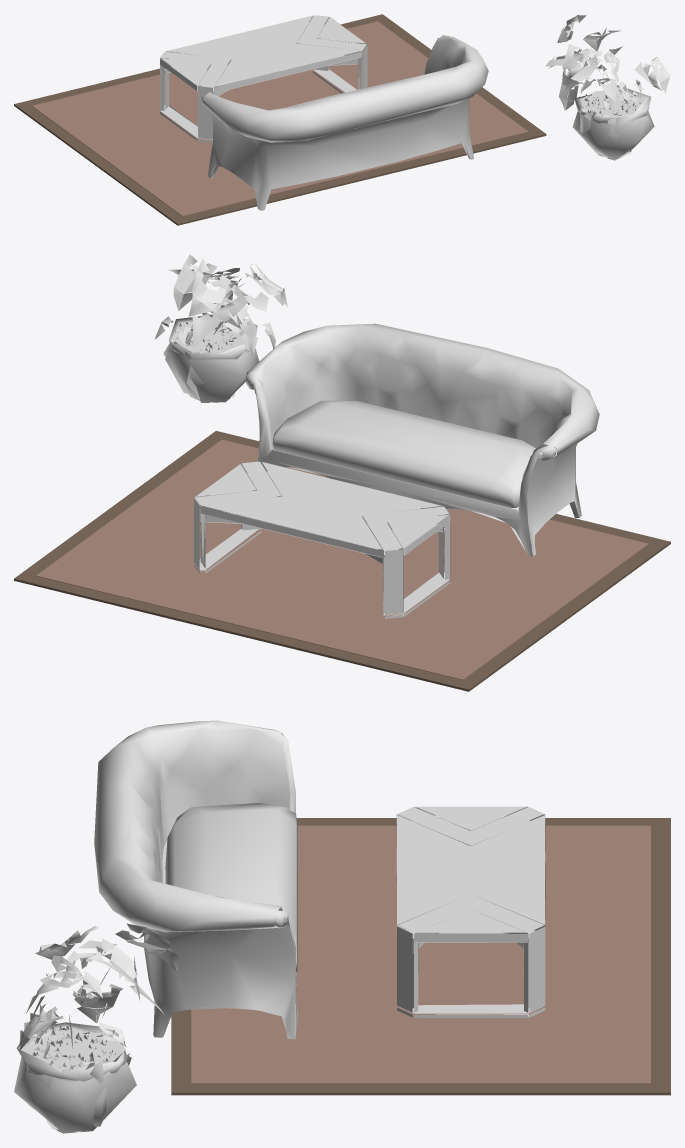
Rendered from fine-s1.glb.
3 renders of one model, top to bottom at view 1: azimuth 30°, elevation 25°; view 2: azimuth 150°, elevation 25°; view 3: azimuth 270°, elevation 25°, orthographic. The views are drawn at different scales.
Visible parts, largest first — view 1: soft-s1, sofa.000, coffee-table.000, plant-medium.000; view 2: soft-s1, sofa.000, coffee-table.000, plant-medium.000; view 3: soft-s1, sofa.000, coffee-table.000, plant-medium.000.
Boxes of the visible parts, x1,y1,x2,y2 form: soft-s1: (14,14,546,225); sofa.000: (202,35,488,210); coffee-table.000: (160,15,367,142); plant-medium.000: (545,15,670,160); soft-s1: (14,431,670,691); sofa.000: (246,323,599,556); coffee-table.000: (194,461,450,618); plant-medium.000: (155,254,287,402); soft-s1: (171,818,670,1095); sofa.000: (94,720,297,1039); coffee-table.000: (396,806,545,1017); plant-medium.000: (14,923,178,1133).
Size of the model in its own units: 3.15 by 0.8543 by 2.63.
